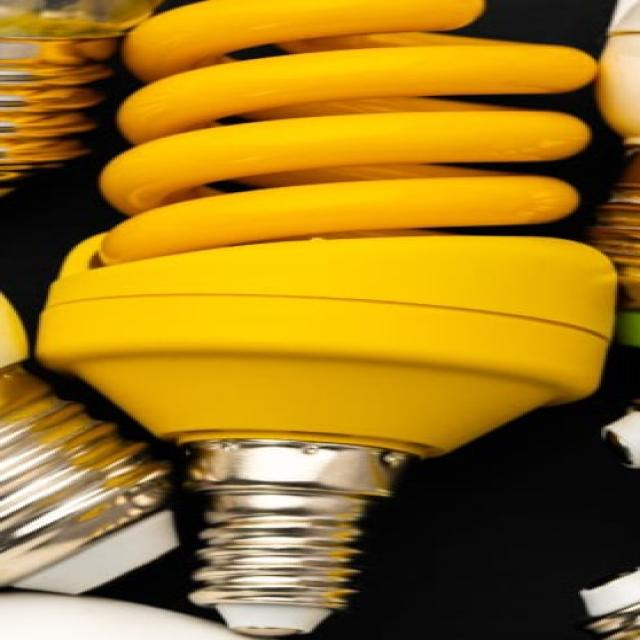bulb: (33, 0, 640, 639)
